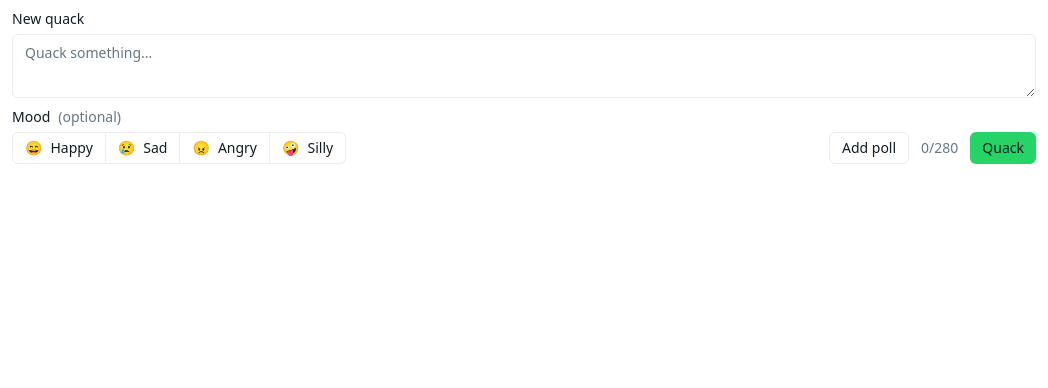
Test: QuackForm › poll › has no answer inputs until the poll is switched on
Expected: the field labelled "Answer 1" is not shown
Click the button "Add poll".
click(869, 148)  # box [829,132,909,164]
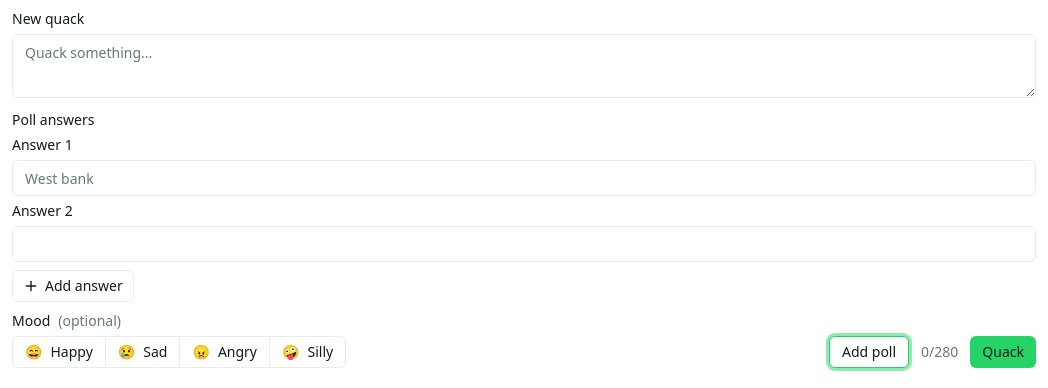
Now the field labelled "Answer 1" is shown, box [12,160,1036,196]
